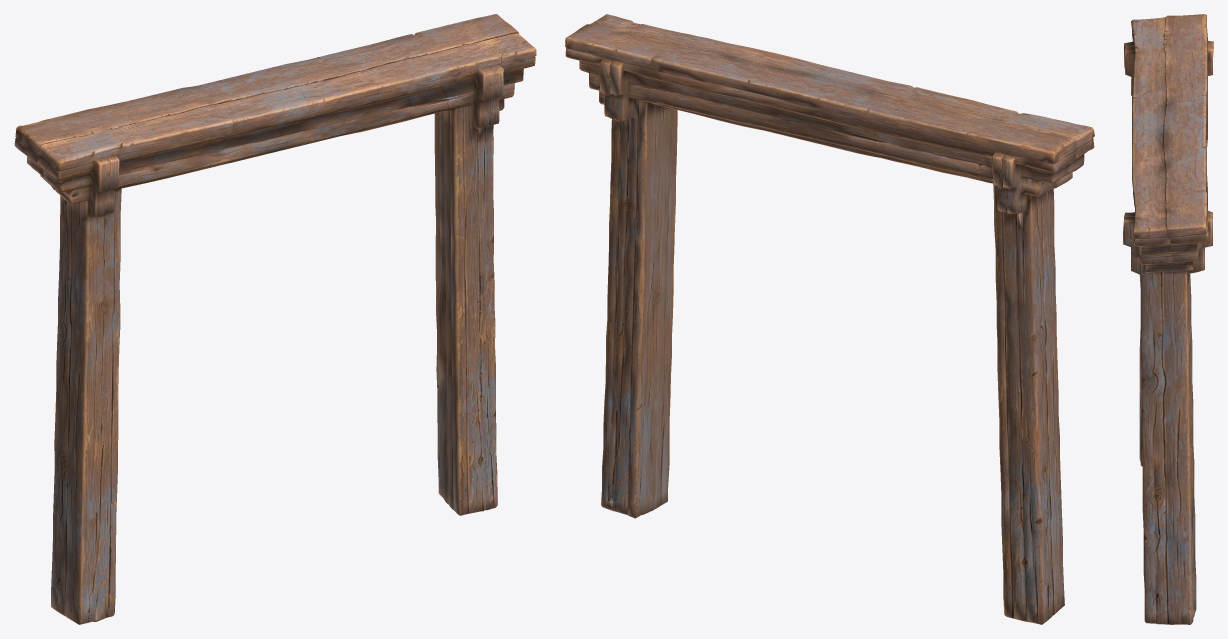
File: frame_wood.glb
The picture shows the model from 3 angles, left to right: view 1: azimuth 30°, elevation 25°; view 2: azimuth 150°, elevation 25°; view 3: azimuth 270°, elevation 25°; orthographic projection. The views are drawn at different scales.
Parts seen in each view (by area): view 1: tripo_node_2d5085f0-b706-4fc9-98d9-12ad298a7a87; view 2: tripo_node_2d5085f0-b706-4fc9-98d9-12ad298a7a87; view 3: tripo_node_2d5085f0-b706-4fc9-98d9-12ad298a7a87.
Part boxes in pixels (bbox=[...]): tripo_node_2d5085f0-b706-4fc9-98d9-12ad298a7a87: bbox=[14, 14, 536, 624]; tripo_node_2d5085f0-b706-4fc9-98d9-12ad298a7a87: bbox=[565, 14, 1094, 624]; tripo_node_2d5085f0-b706-4fc9-98d9-12ad298a7a87: bbox=[1123, 14, 1213, 624].
Size of the model in its own units: 3.79 by 3.6 by 0.6904.
1 material, 1 textured.
